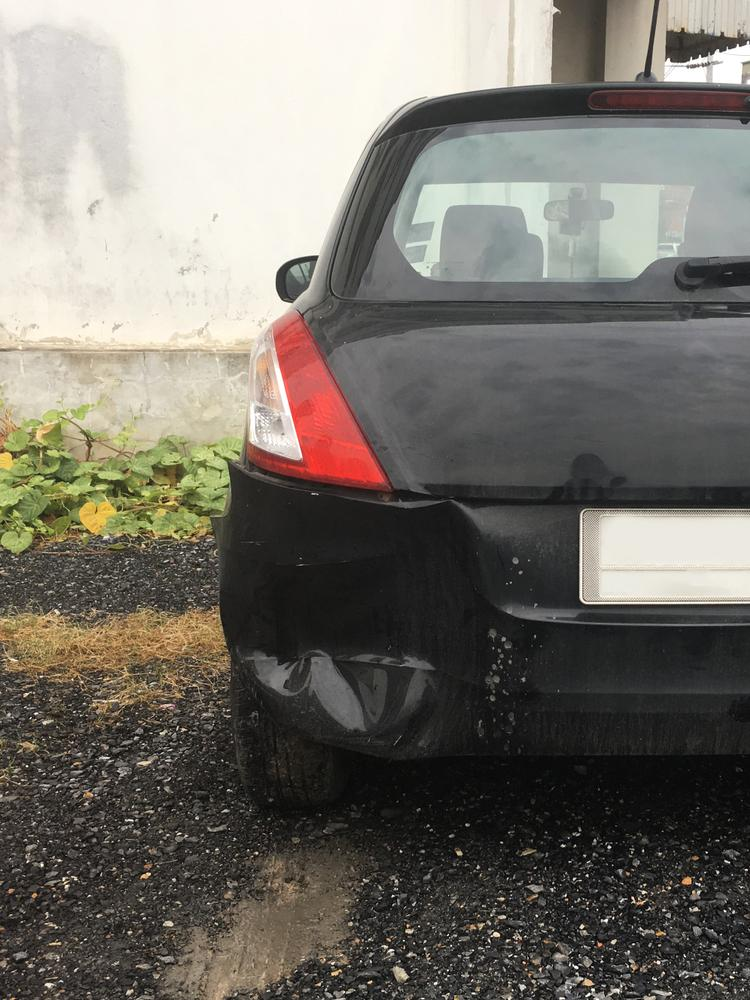dent: (223, 503, 478, 752)
